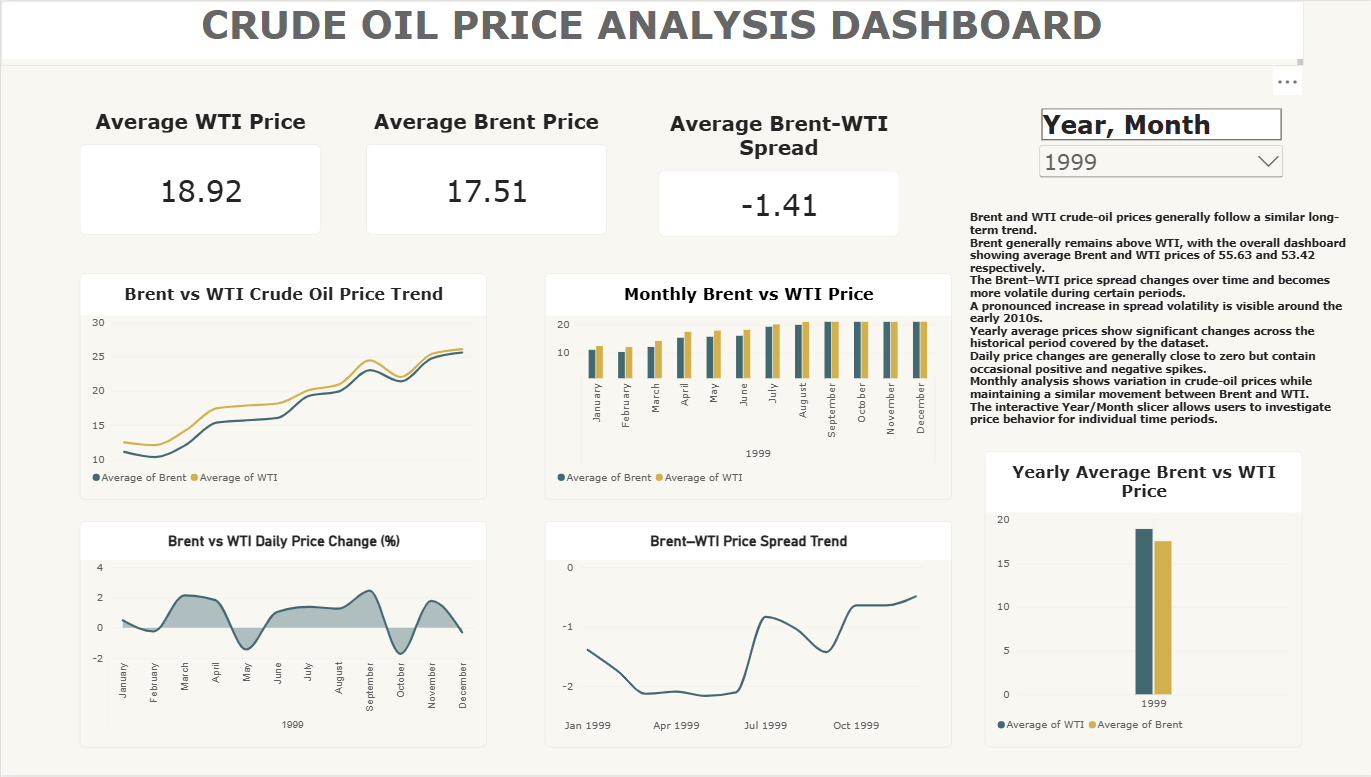

The dashboard page shown, as its layout file describes it:
{"tool":"powerbi","page":{"name":"Page 1","canvas":[1920,1080],"ordinal":0},"visuals":[{"type":"lineChart","title":"Brent vs WTI Crude Oil Price Trend","fields":{"Category":["Sheet1.Date.Variation.Date Hierarchy.Year","Sheet1.Date.Variation.Date Hierarchy.Month"],"Y":["Avg(Sheet1.Brent)","Avg(Sheet1.WTI)"]},"box":[110,380,568,316],"z":0},{"type":"cardVisual","title":"Average WTI Price","fields":{"Data":["Avg(Sheet1.WTI)"]},"box":[110,150,336.7,176.7],"z":1000},{"type":"slicer","fields":{"Values":["Sheet1.Date.Variation.Date Hierarchy.Year","Sheet1.Date.Variation.Date Hierarchy.Month"]},"box":[1445,150,350,102.5],"z":2000},{"type":"lineChart","title":"Brent–WTI Price Spread Trend","fields":{"Category":["Sheet1.Date.Variation.Date Hierarchy.Year","Sheet1.Date.Variation.Date Hierarchy.Month"],"Y":["Avg(Sheet1.Spread)"]},"box":[758,726,568,316],"z":3000},{"type":"clusteredColumnChart","title":"Monthly  Brent vs WTI Price","fields":{"Category":["Sheet1.Date.Variation.Date Hierarchy.Year","Sheet1.Date.Variation.Date Hierarchy.Month"],"Y":["Avg(Sheet1.Brent)","Avg(Sheet1.WTI)"]},"box":[758,380,568,316],"z":4000},{"type":"stackedAreaChart","title":"Brent vs WTI Daily Price Change (%)","fields":{"Category":["Sheet1.Date.Variation.Date Hierarchy.Year","Sheet1.Date.Variation.Date Hierarchy.Month"],"Y":["Avg(Sheet1.WTI_Daily_Change_%)"]},"box":[110,726,568,316],"z":5000},{"type":"textbox","title":" CRUDE OIL PRICE ANALYSIS DASHBOARD","box":[0,0,1816.7,90],"z":6000},{"type":"cardVisual","title":"Average Brent Price","fields":{"Data":["Avg(Sheet1.Brent)"]},"box":[510,150,336,176.7],"z":7000},{"type":"cardVisual","title":"Average  Brent-WTI Spread","fields":{"Data":["Avg(Sheet1.Spread)"]},"box":[916.7,153.3,336,176],"z":8000},{"type":"clusteredColumnChart","title":"Yearly Average Brent vs WTI Price","fields":{"Category":["Sheet1.Date.Variation.Date Hierarchy.Year"],"Y":["Avg(Sheet1.WTI)","Avg(Sheet1.Brent)"]},"box":[1372.7,627.9,443.3,413.3],"z":9000},{"type":"textbox","box":[1351.7,293,537.2,312.2],"z":9001}]}

Visuals, with their boxes in screenshot pixels (x1, y1, x2, y2), scaled from the page's 1920x1080 canvas onto the 1371x777 screenshot:
"Brent vs WTI Crude Oil Price Trend" lineChart: x1=79 y1=273 x2=484 y2=501
"Average WTI Price" cardVisual: x1=79 y1=108 x2=319 y2=235
slicer - Sheet1.Date.Variation.Date Hierarchy.Year x Sheet1.Date.Variation.Date Hierarchy.Month: x1=1032 y1=108 x2=1282 y2=182
"Brent–WTI Price Spread Trend" lineChart: x1=541 y1=522 x2=947 y2=750
"Monthly  Brent vs WTI Price" clusteredColumnChart: x1=541 y1=273 x2=947 y2=501
"Brent vs WTI Daily Price Change (%)" stackedAreaChart: x1=79 y1=522 x2=484 y2=750
" CRUDE OIL PRICE ANALYSIS DASHBOARD" textbox: x1=0 y1=0 x2=1297 y2=65
"Average Brent Price" cardVisual: x1=364 y1=108 x2=604 y2=235
"Average  Brent-WTI Spread" cardVisual: x1=655 y1=110 x2=895 y2=237
"Yearly Average Brent vs WTI Price" clusteredColumnChart: x1=980 y1=452 x2=1297 y2=749
textbox: x1=965 y1=211 x2=1349 y2=435
